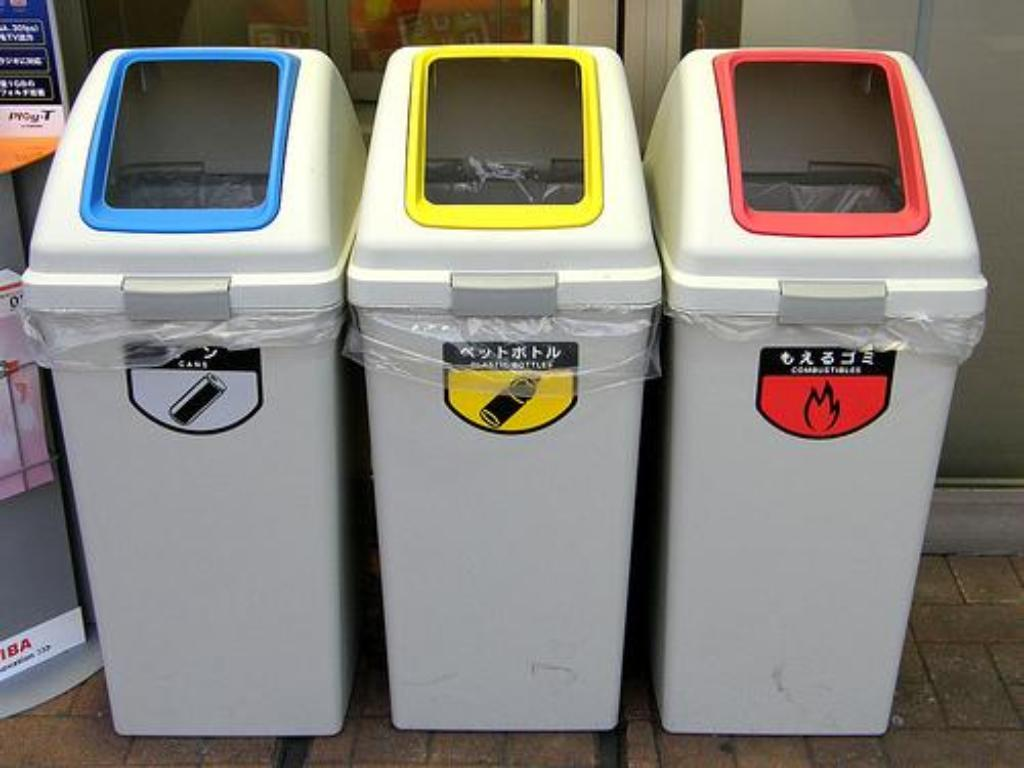dustbin: (46, 45, 364, 746), (649, 39, 954, 751), (366, 36, 662, 744)
